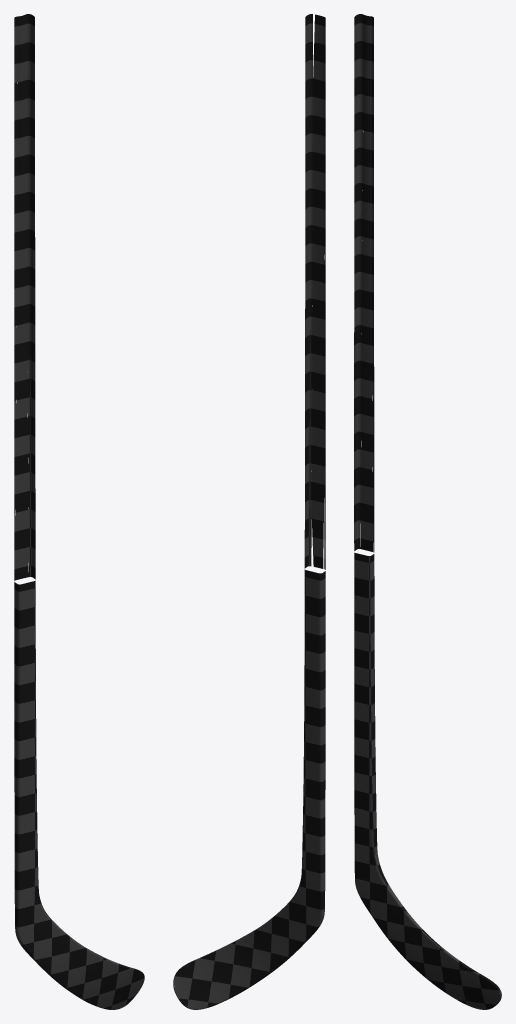
File: P29-ST-LIE6_5.glb
The picture shows the model from 3 angles, left to right: view 1: azimuth 30°, elevation 25°; view 2: azimuth 150°, elevation 25°; view 3: azimuth 330°, elevation 25°; orthographic projection. The views are drawn at different scales.
Parts seen in each view (by area): view 1: geometry_0; view 2: geometry_0; view 3: geometry_0.
Boxes of the visible parts, x1=… form: geometry_0: x1=14, y1=14, x2=144, y2=1009; geometry_0: x1=173, y1=14, x2=325, y2=1009; geometry_0: x1=354, y1=14, x2=501, y2=1009.
Size of the model in its own units: 237 by 1650 by 55.99.
Materials: 1 (1 with a texture image).
